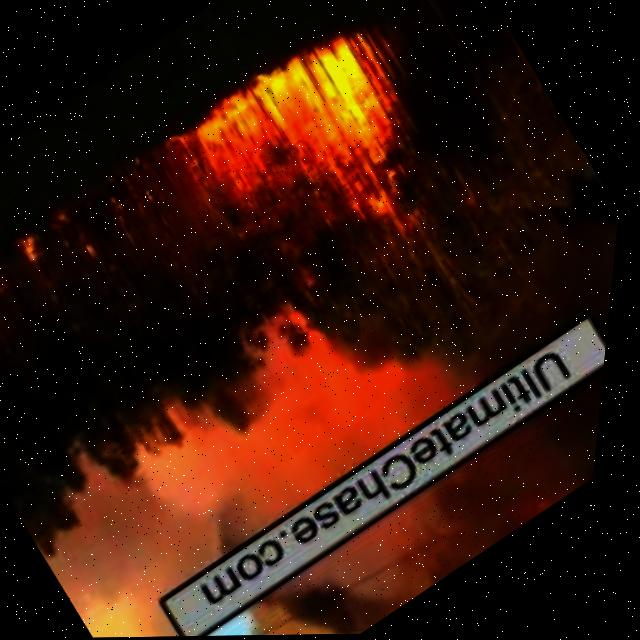Fire: (167, 11, 460, 280), (12, 207, 101, 284), (0, 270, 3, 340)
Smoke: (0, 99, 632, 640), (246, 314, 616, 637)
